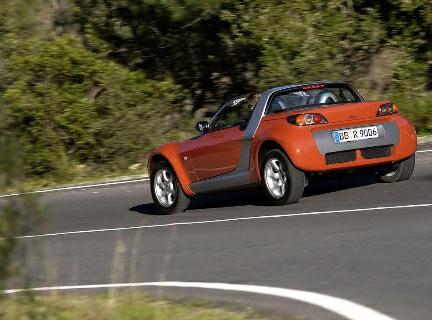smart-roadster: (136, 83, 425, 212)
